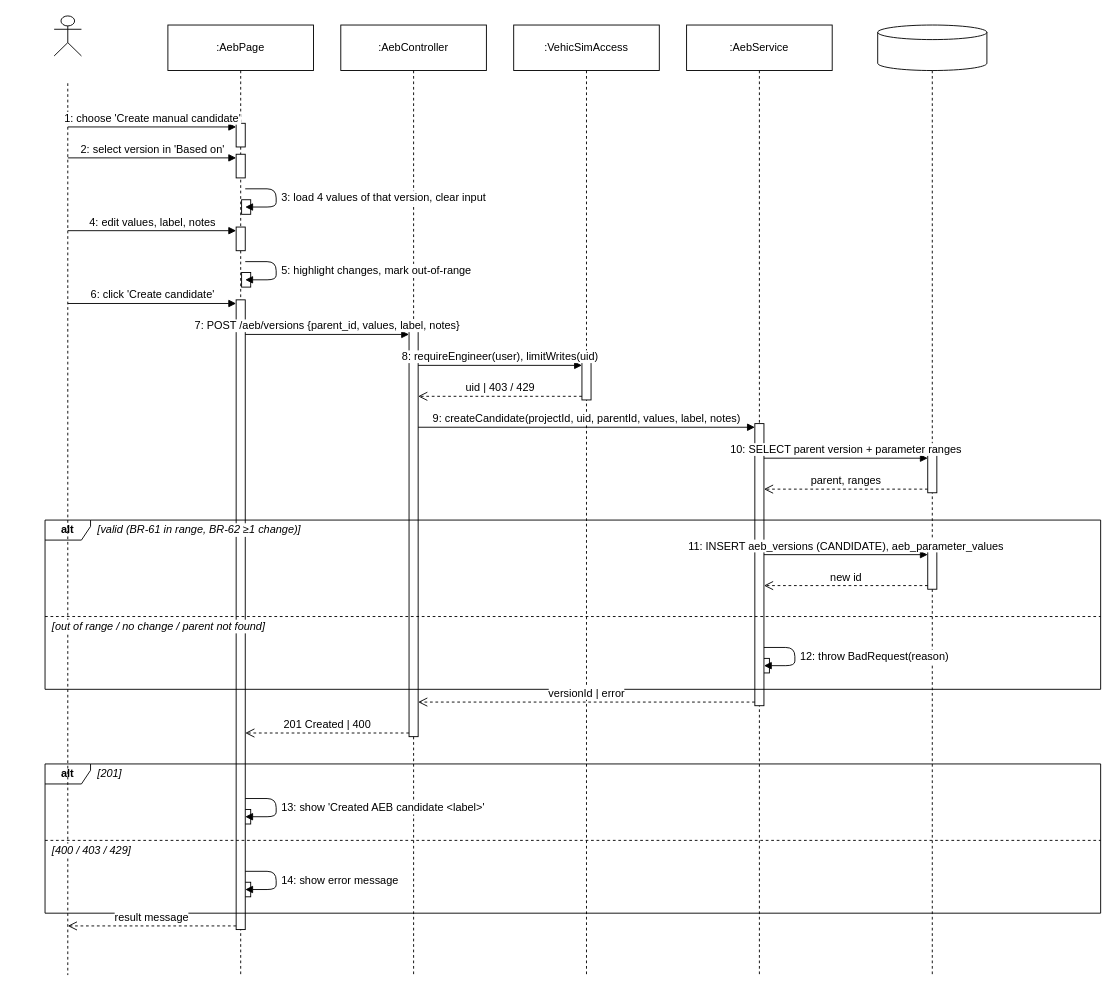
This 1117x992 diagram has some shape labels left out. Each missing label, with the box of its shape:
Engineer / Reviewer / Experiencer: (53, 15, 81, 56)
MySQL: (877, 24, 987, 71)
